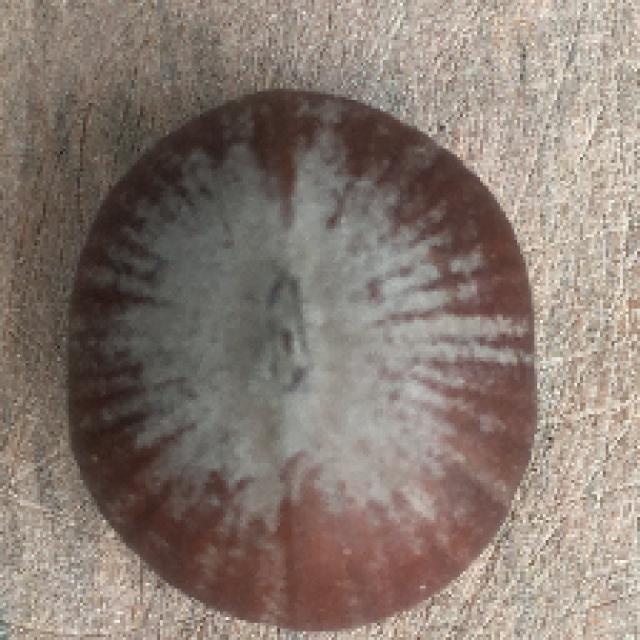qualityHazelnut: (65, 85, 552, 630)
